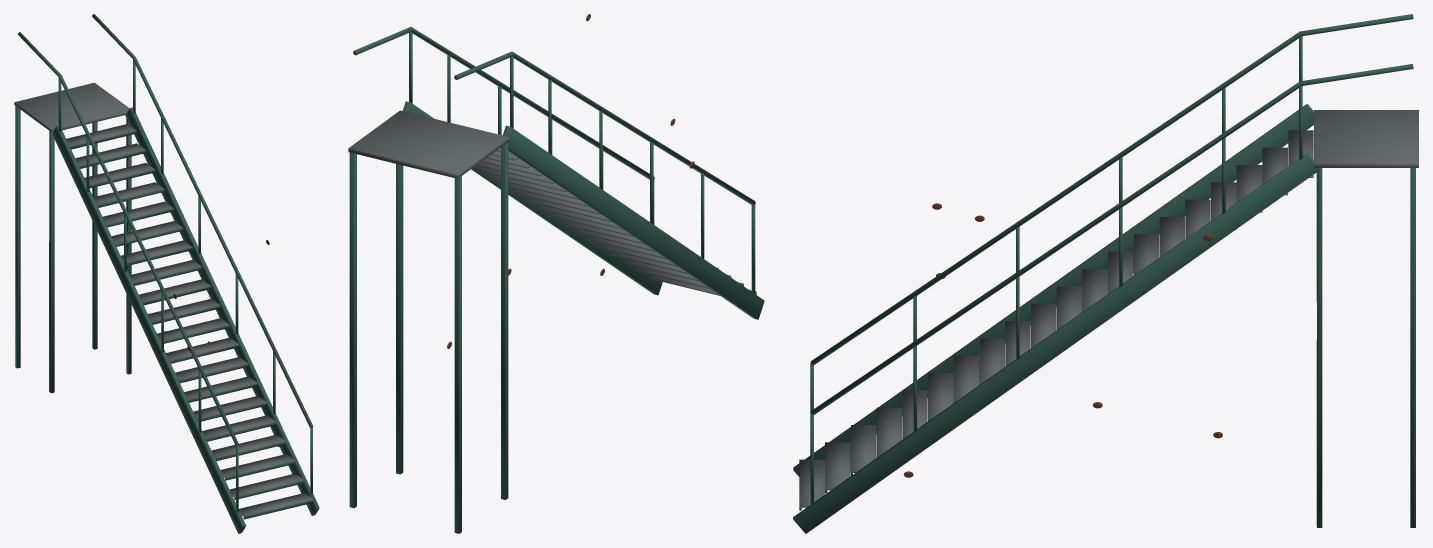
Rendered from cau_thang_344_440_95.glb.
The picture shows the model from 3 angles, left to right: view 1: azimuth 30°, elevation 25°; view 2: azimuth 150°, elevation 25°; view 3: azimuth 270°, elevation 25°; orthographic projection. The views are drawn at different scales.
Visible parts, largest first — view 1: cau_thang_344_440_95; view 2: cau_thang_344_440_95; view 3: cau_thang_344_440_95.
Part boxes in pixels (x1=…): cau_thang_344_440_95: x1=14, y1=14, x2=319, y2=533; cau_thang_344_440_95: x1=348, y1=14, x2=764, y2=533; cau_thang_344_440_95: x1=793, y1=14, x2=1418, y2=533.
Bounding box in the file's own units: 1.1 × 4.43 × 5.36.
